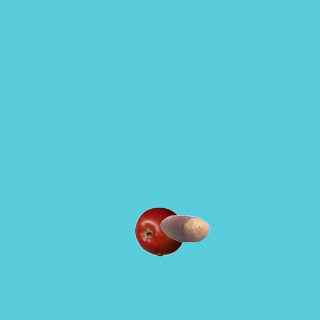Apple Braeburn: (134, 206, 184, 256)
Hazelnut: (159, 203, 209, 253)
